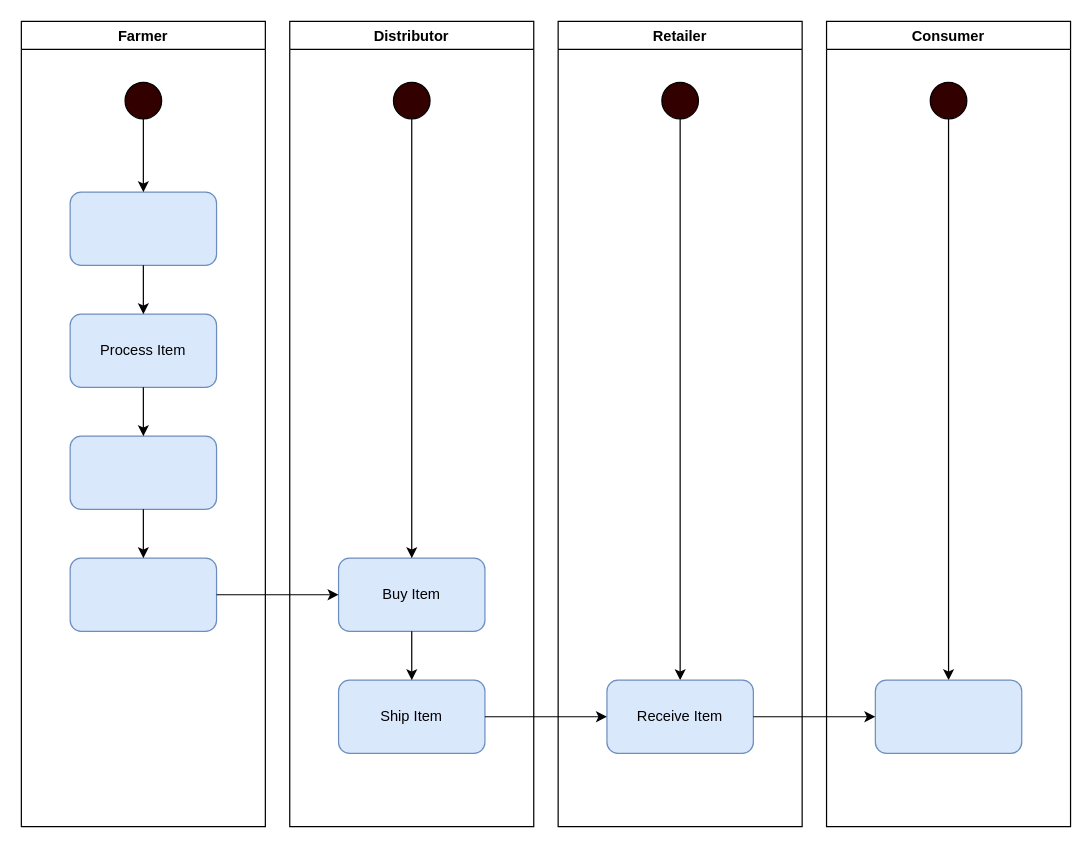
Some shapes in this 1092 by 848 pixel diagram are drawn without their labels. The centre of each missing label's shape, as x and y in pixels:
Harvest Item: the point at 143,228
Pack Item: the point at 143,472
Purchase item: the point at 948,716
Set Item For Sale: the point at 143,594
